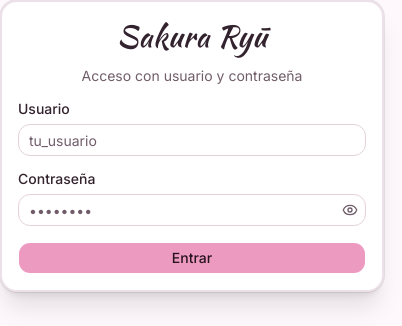
formulario de login › la contraseña va oculta y el botón del ojo solo muestra lo que se está tecleando
Type "secreta" into the password field labelled "Contraseña".
click(192, 210); type("secreta")  # box [18,194,366,226]
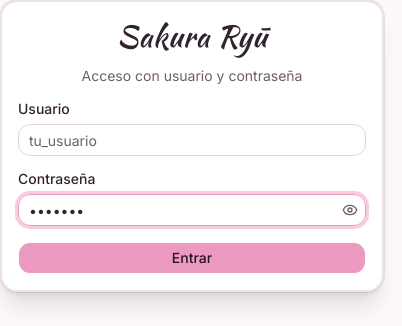
Click the button named "Mostrar contraseña".
click(350, 210)  # box [338,198,362,222]
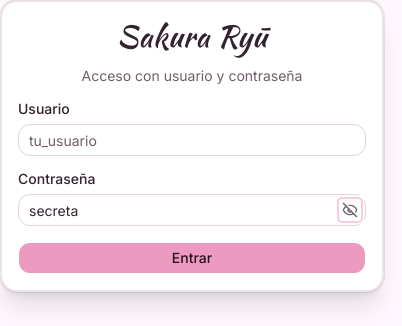
Expected: the field labelled "Contraseña" shows its text, [18,194,366,226]
Click the button named "Ocultar contraseña".
click(350, 210)  # box [338,198,362,222]
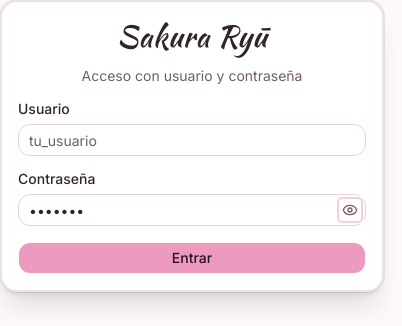
Expected: the password field labelled "Contraseña" hides its text, [18,194,366,226]
